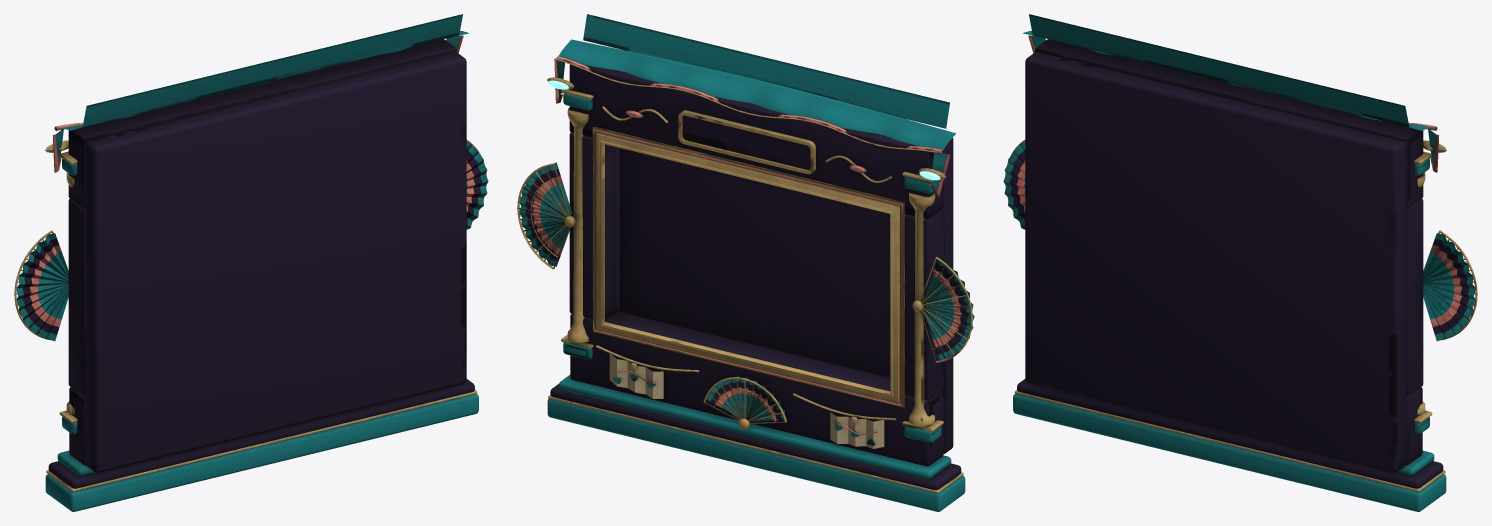
3 views of the same model, side by side, from view 1: azimuth 30°, elevation 25°; view 2: azimuth 150°, elevation 25°; view 3: azimuth 330°, elevation 25° (orthographic). The views are drawn at different scales.
Visible parts, largest first — view 1: Deep_violet_lacquer, Teal_woven_silk, Warm_brushed_brass, Coral_silk_edging; view 2: Deep_violet_lacquer, Teal_woven_silk, Warm_brushed_brass, Coral_silk_edging, Warm_folded_route_paper; view 3: Deep_violet_lacquer, Teal_woven_silk, Warm_brushed_brass, Coral_silk_edging.
Boxes of the visible parts, bbox=[...] form: Deep_violet_lacquer: bbox=[22, 39, 482, 488]; Teal_woven_silk: bbox=[16, 14, 488, 511]; Warm_brushed_brass: bbox=[14, 128, 486, 491]; Coral_silk_edging: bbox=[29, 35, 475, 327]; Deep_violet_lacquer: bbox=[525, 64, 968, 489]; Teal_woven_silk: bbox=[519, 14, 974, 511]; Warm_brushed_brass: bbox=[517, 59, 972, 493]; Coral_silk_edging: bbox=[532, 56, 961, 434]; Warm_folded_route_paper: bbox=[609, 353, 884, 448]; Deep_violet_lacquer: bbox=[1009, 39, 1469, 488]; Teal_woven_silk: bbox=[1003, 14, 1475, 511]; Warm_brushed_brass: bbox=[1005, 128, 1477, 491]; Coral_silk_edging: bbox=[1016, 35, 1462, 327].
Size of the model in its own units: 10.78 by 8.8 by 1.35.
6 materials, 5 textured.
